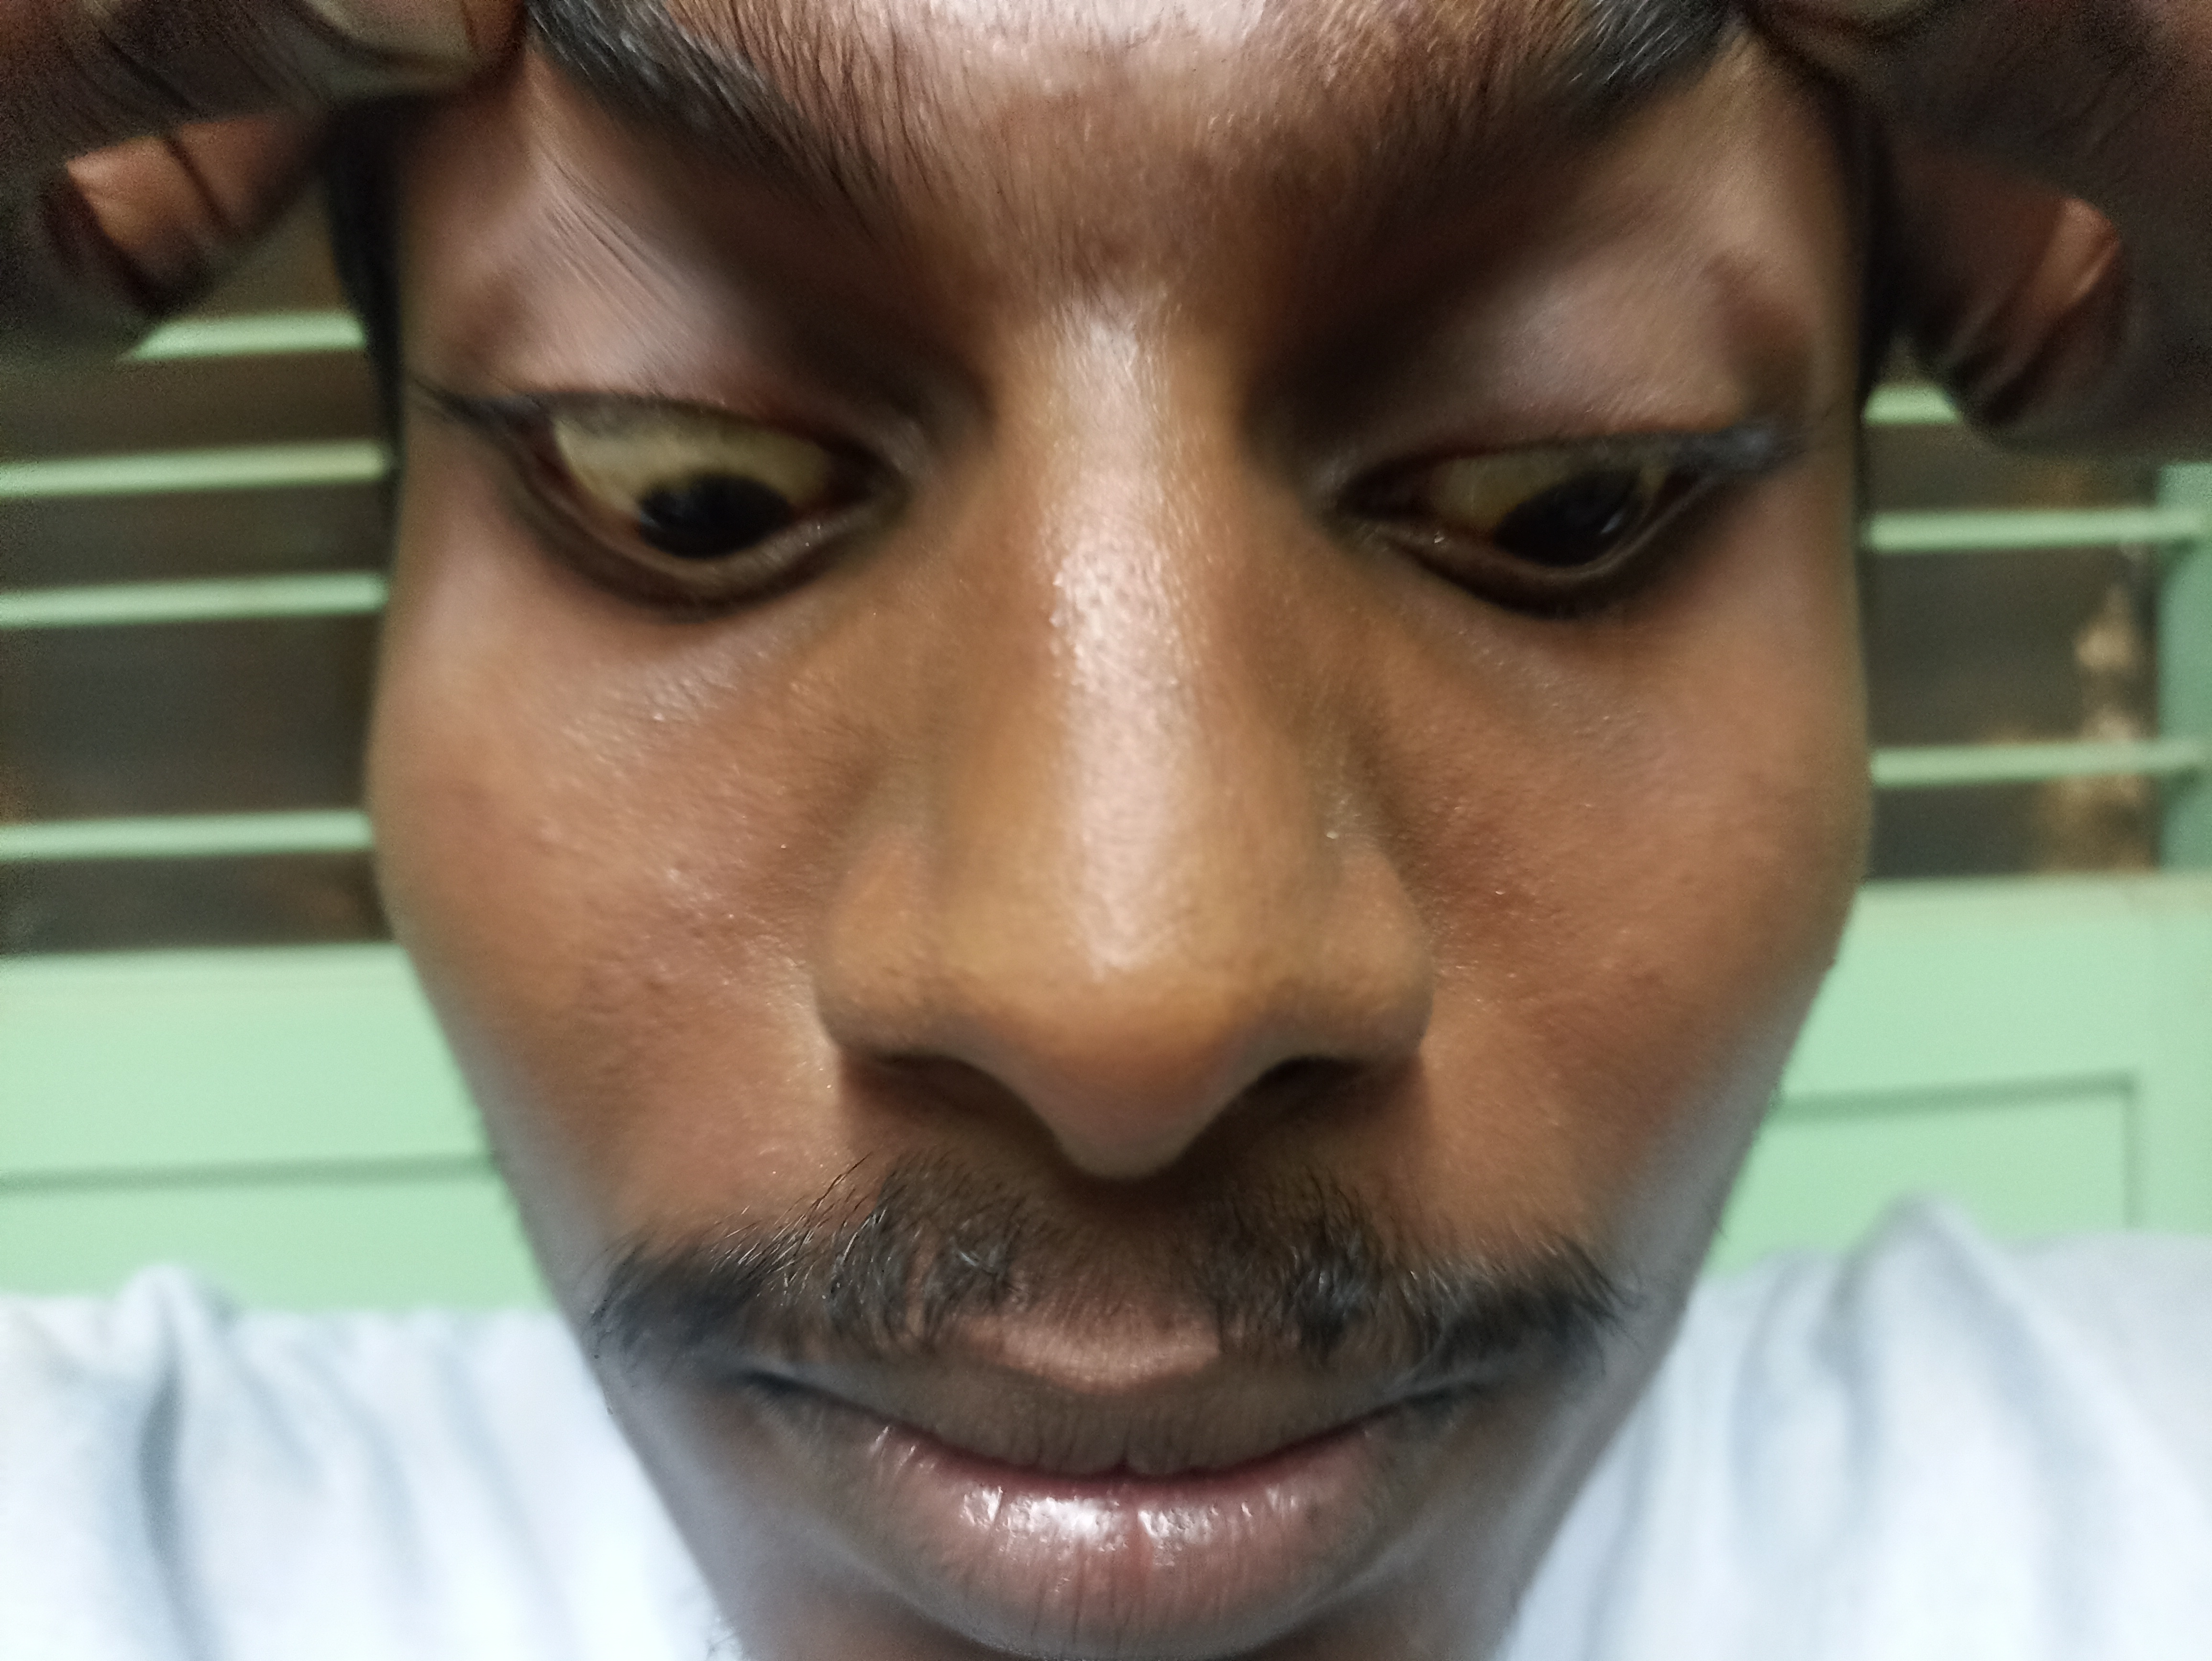EYE DOWN: (1087, 82, 1949, 799), (270, 58, 991, 742)
